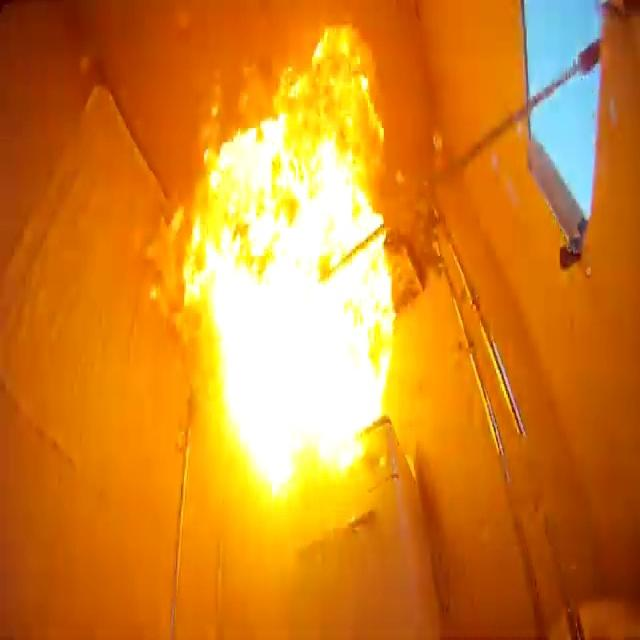fire: (169, 24, 412, 521)
